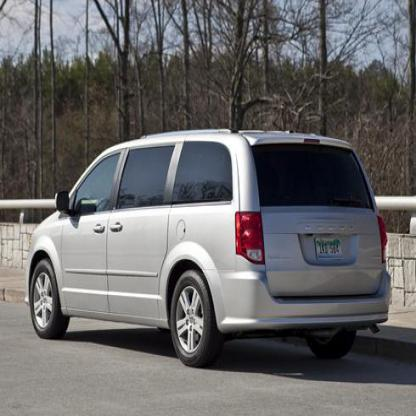Vehicle: (27, 129, 390, 367)
